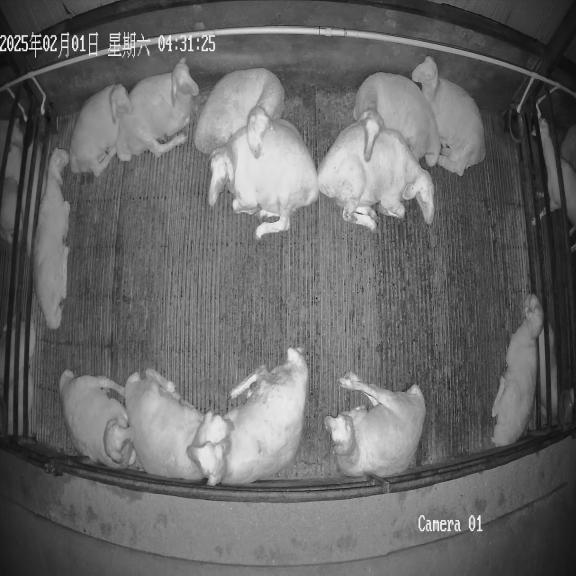lying: (188, 348, 308, 486), (208, 119, 319, 238), (317, 122, 434, 231), (124, 369, 231, 480), (324, 372, 425, 478), (412, 56, 486, 176), (115, 58, 199, 161), (354, 72, 441, 167), (194, 68, 284, 158), (491, 294, 542, 446), (59, 370, 136, 468), (34, 148, 70, 330), (70, 84, 133, 177)
